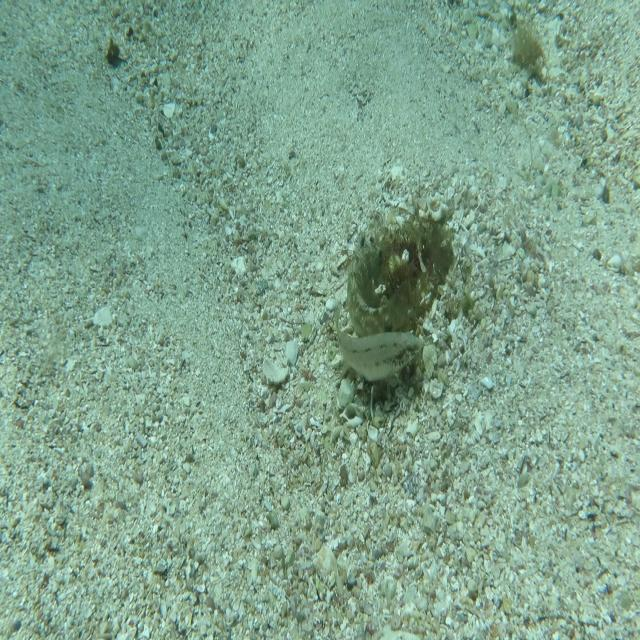BEND_OPP: (342, 229, 413, 337)
female: (332, 297, 426, 392)
nest: (327, 201, 471, 408)
